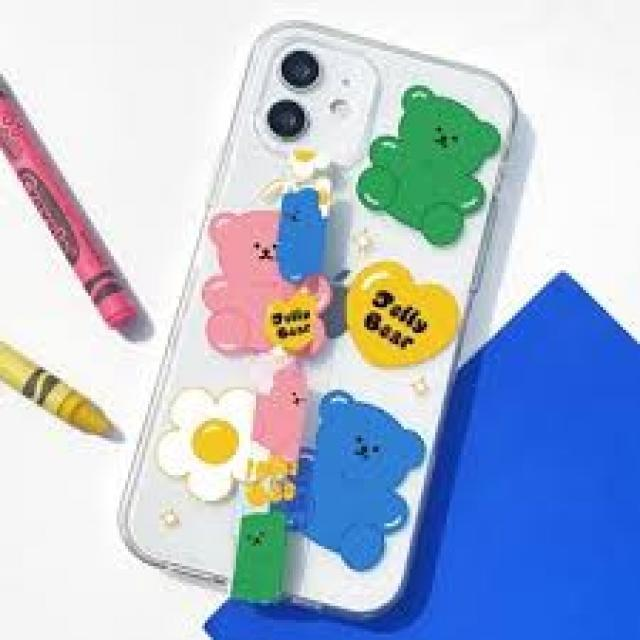phone: (114, 21, 516, 615)
